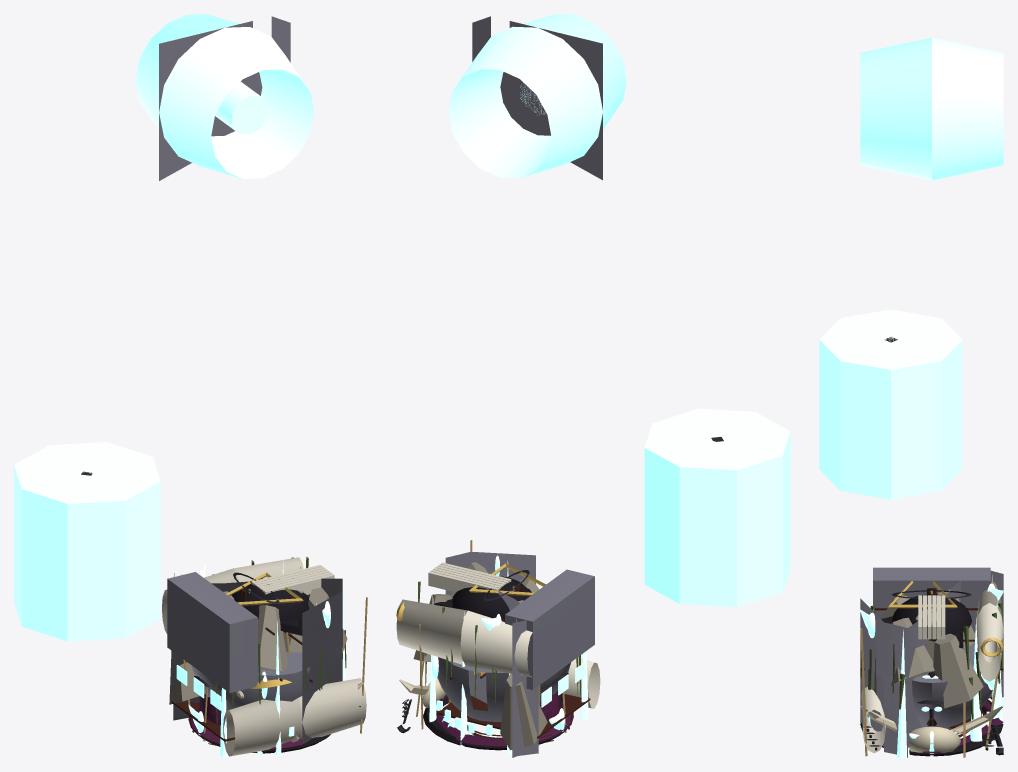
Rendered from fantome.glb.
3 views of the same model, side by side, from view 1: azimuth 30°, elevation 25°; view 2: azimuth 150°, elevation 25°; view 3: azimuth 270°, elevation 25° (orthographic). The views are drawn at different scales.
Visible parts, largest first — view 1: fantome_corps, fantome_lanterne, fantome_fanion, fantome_voile00, fantome_voile01, fantome_flammes; view 2: fantome_corps, fantome_lanterne, fantome_fanion, fantome_voile00, fantome_voile10, fantome_flammes, fantome_voile11, fantome_voile01, fantome_follets; view 3: fantome_lanterne, fantome_corps, fantome_fanion, fantome_voile00, fantome_flammes, fantome_voile01, fantome_voile10, fantome_voile11, fantome_follets.
Part boxes in pixels (bbox=[...]): fantome_corps: bbox=[162, 556, 367, 756]; fantome_lanterne: bbox=[14, 442, 160, 641]; fantome_fanion: bbox=[135, 14, 314, 180]; fantome_voile00: bbox=[173, 573, 342, 744]; fantome_voile01: bbox=[173, 578, 342, 735]; fantome_flammes: bbox=[220, 558, 345, 757]; fantome_corps: bbox=[396, 540, 600, 750]; fantome_lanterne: bbox=[644, 408, 790, 607]; fantome_fanion: bbox=[448, 14, 626, 180]; fantome_voile00: bbox=[445, 551, 538, 753]; fantome_voile10: bbox=[445, 552, 538, 756]; fantome_flammes: bbox=[429, 560, 588, 754]; fantome_voile11: bbox=[446, 552, 538, 757]; fantome_voile01: bbox=[446, 552, 538, 753]; fantome_follets: bbox=[431, 552, 564, 735]; fantome_lanterne: bbox=[819, 309, 962, 499]; fantome_corps: bbox=[860, 567, 1003, 757]; fantome_fanion: bbox=[860, 37, 1003, 180]; fantome_voile00: bbox=[860, 571, 1003, 757]; fantome_flammes: bbox=[866, 591, 1003, 757]; fantome_voile01: bbox=[860, 571, 1003, 736]; fantome_voile10: bbox=[869, 582, 1003, 754]; fantome_voile11: bbox=[860, 571, 1003, 747]; fantome_follets: bbox=[860, 583, 1003, 756].
Size of the model in its own units: 5.02 by 10.25 by 2.57.
